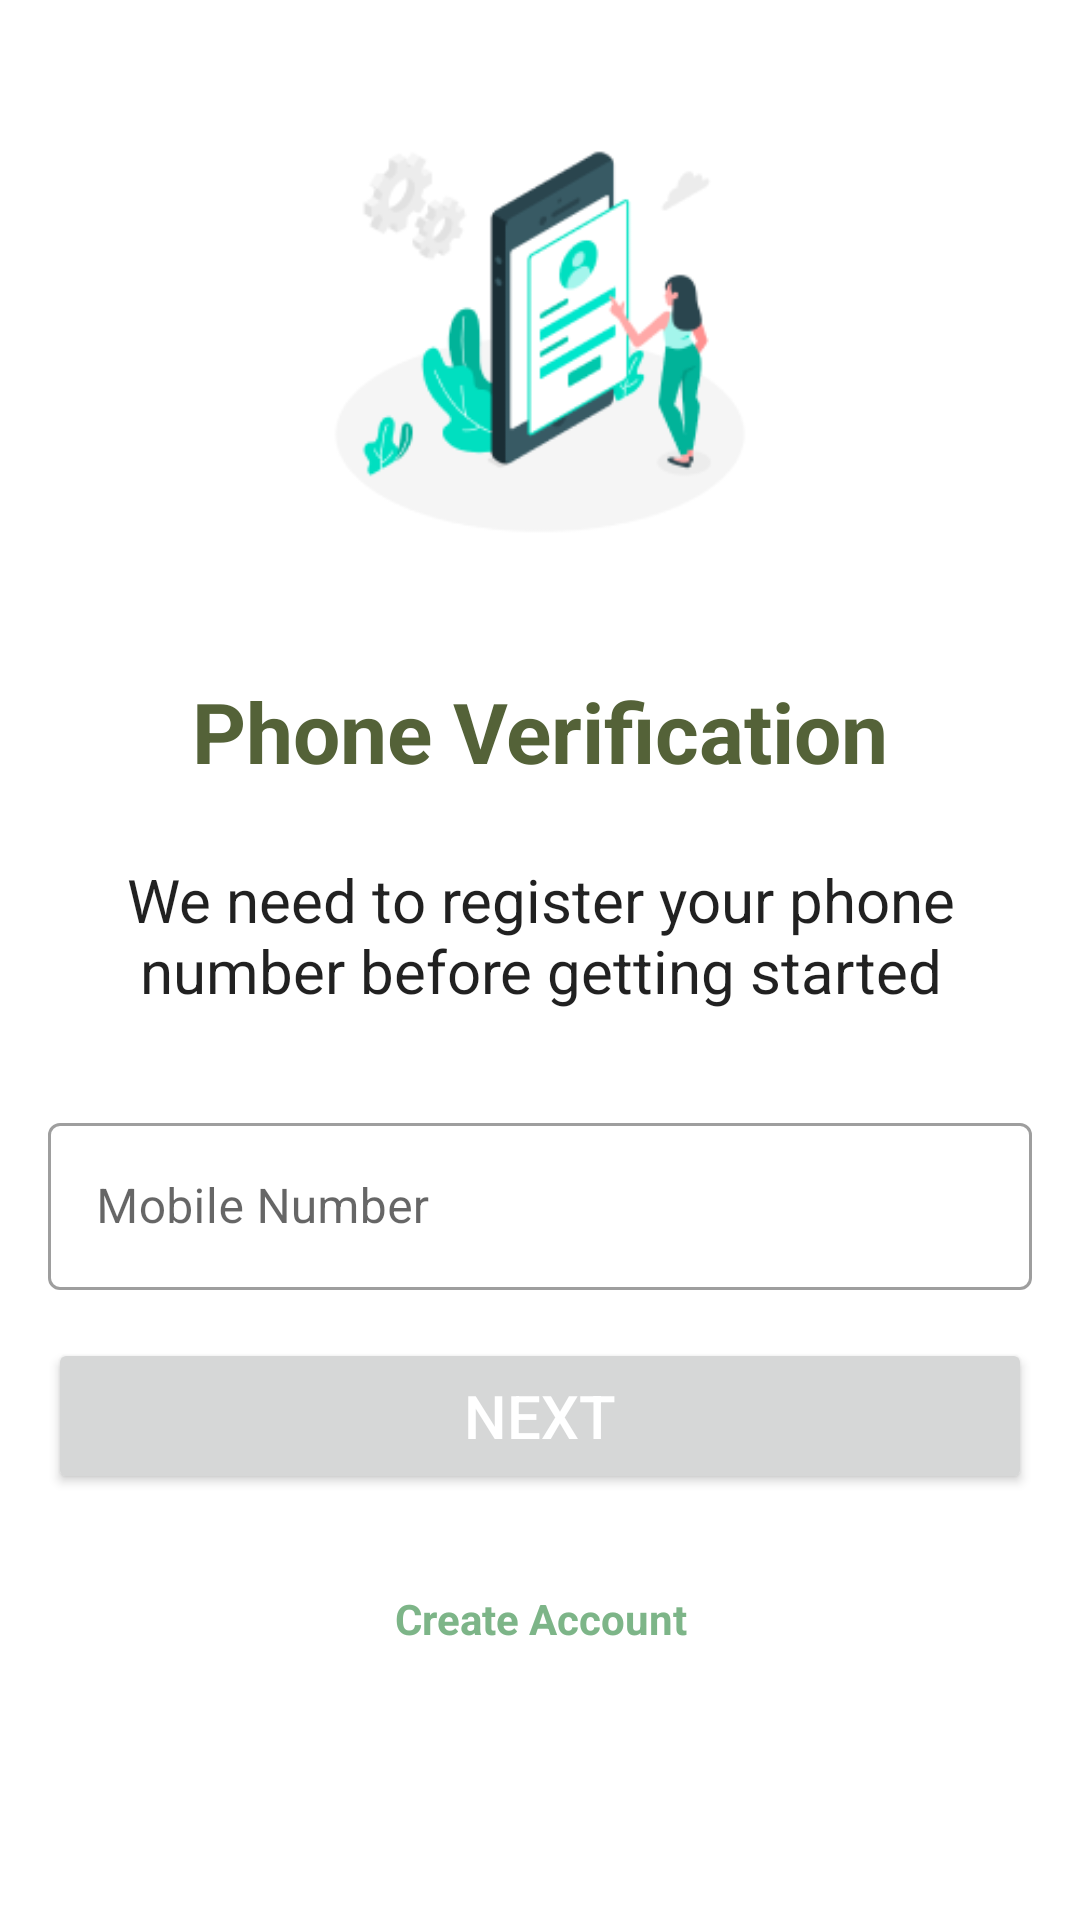

Screen size 1080 x 1920. Icon name, then its center in pixels as (x=x, y=y):
login: (x=535, y=314)
